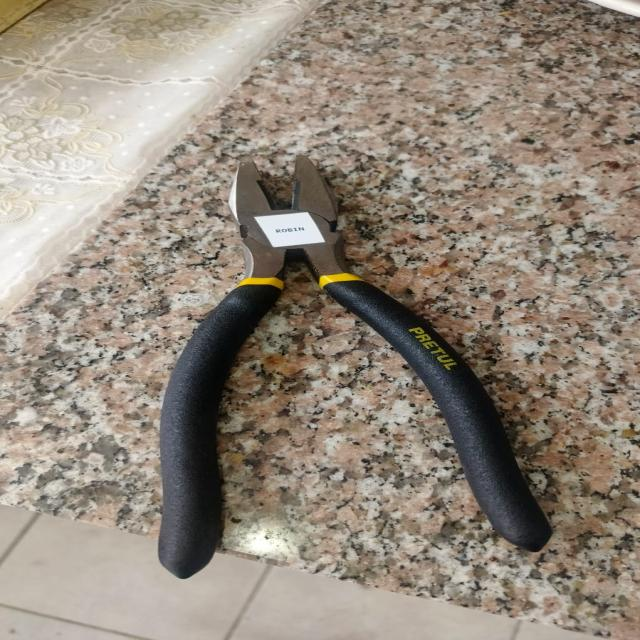alicate: (140, 137, 558, 586)
